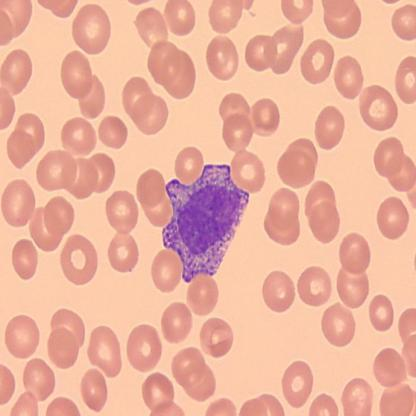Promyelocyte: (162, 162, 250, 282)
